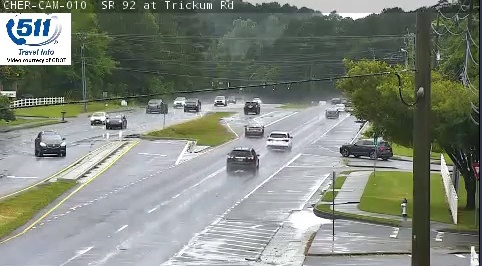car: (227, 147, 258, 169), (266, 132, 292, 149), (245, 122, 263, 135)
